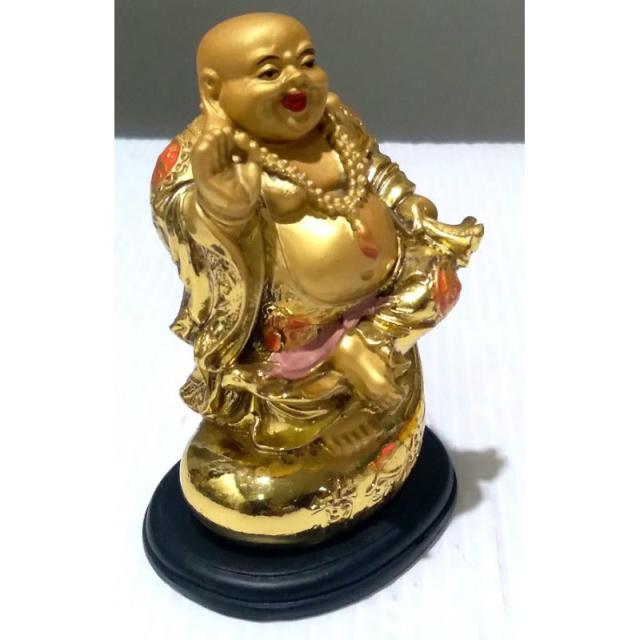Smiling Buddha: (178, 8, 420, 490)
